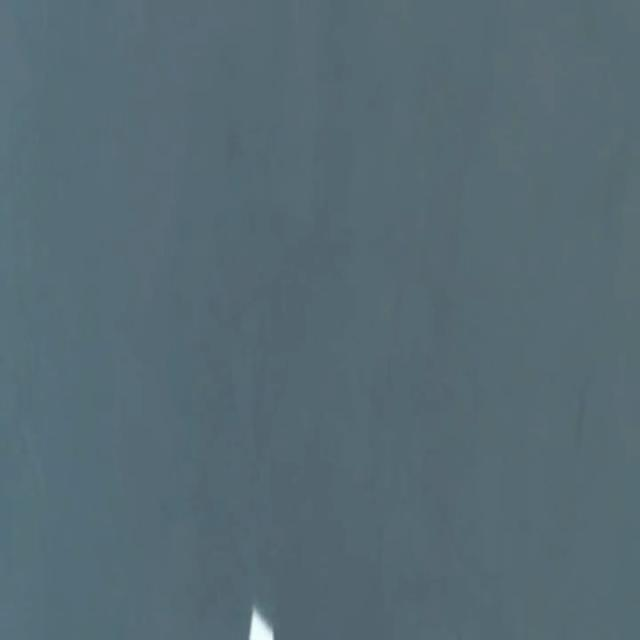center: (249, 605, 274, 639)
